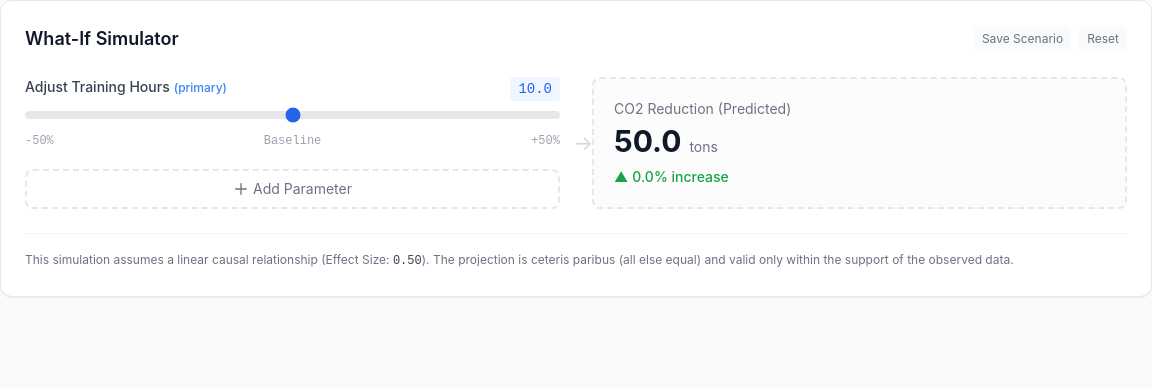
Test: InterventionSimulator › saves a scenario when Save Scenario is clicked
The image size is (1152, 388).
Click the button with test id "save-scenario-btn" at (1023, 39), box [974,27,1071,51]
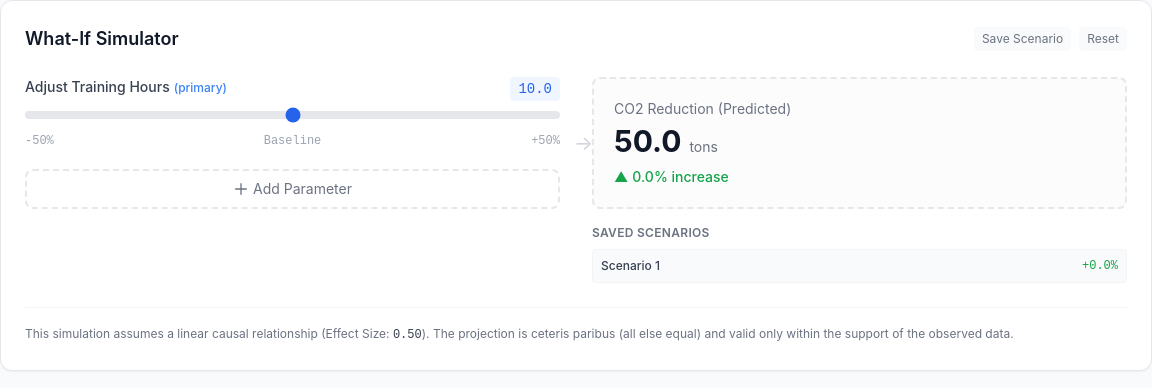
Result: the text "Scenario 1" is shown at [601,258,660,274]
